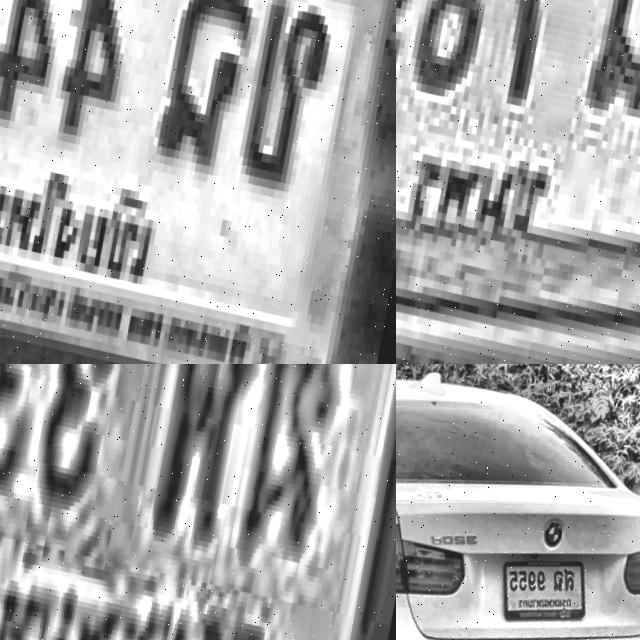license-plate: (0, 0, 396, 364), (0, 364, 396, 640), (396, 0, 640, 364), (496, 532, 600, 626)
